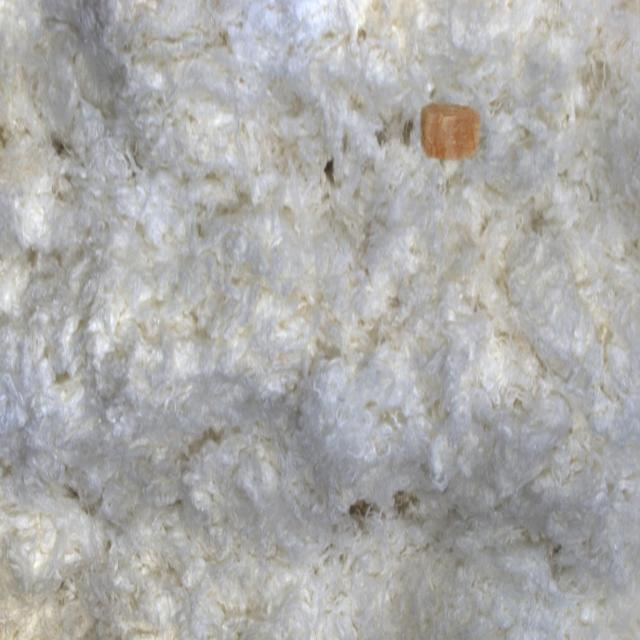dust: (375, 44, 519, 201)
